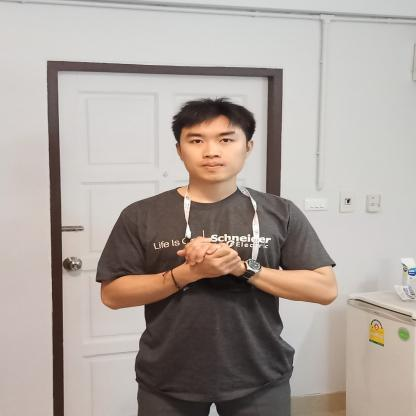Grieve: (125, 223, 291, 301)
